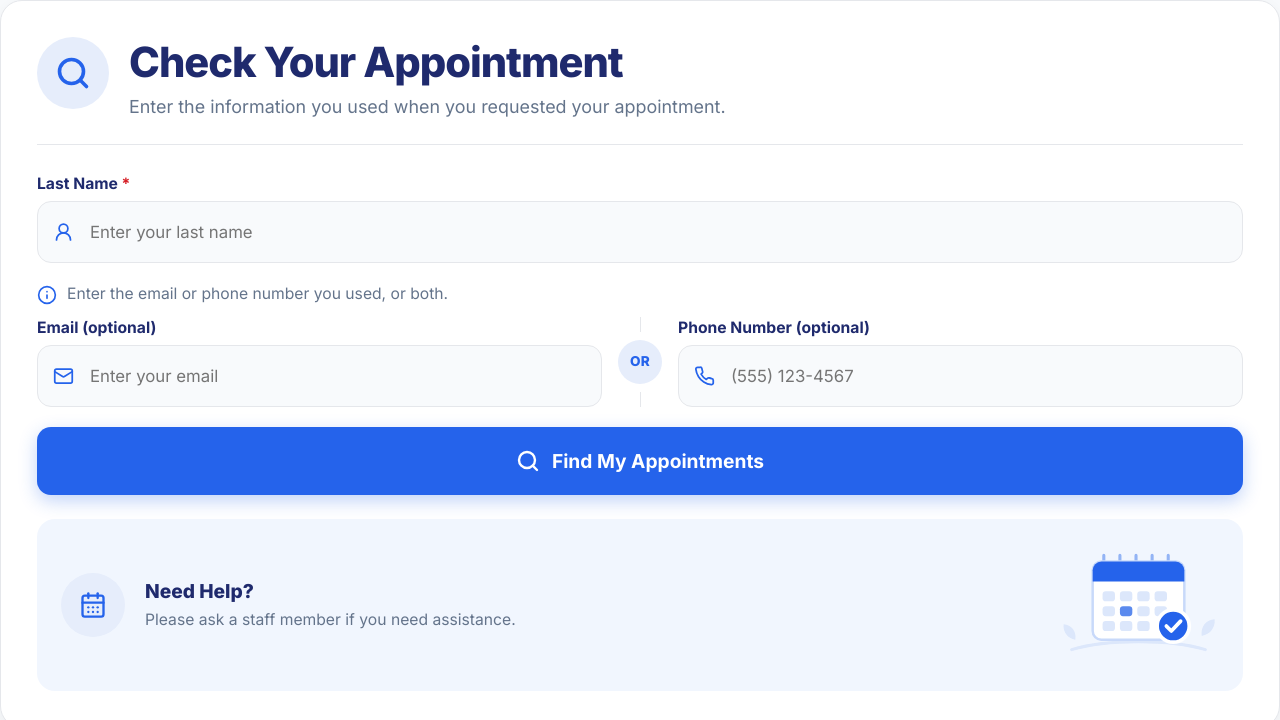
Test case: AppointmentLookup › still asks for a contact when only the last name is filled in
The image size is (1280, 720).
Type "Pierre" into the field labelled "Last Name *" at coordinates (640, 232), box [37,201,1243,263]
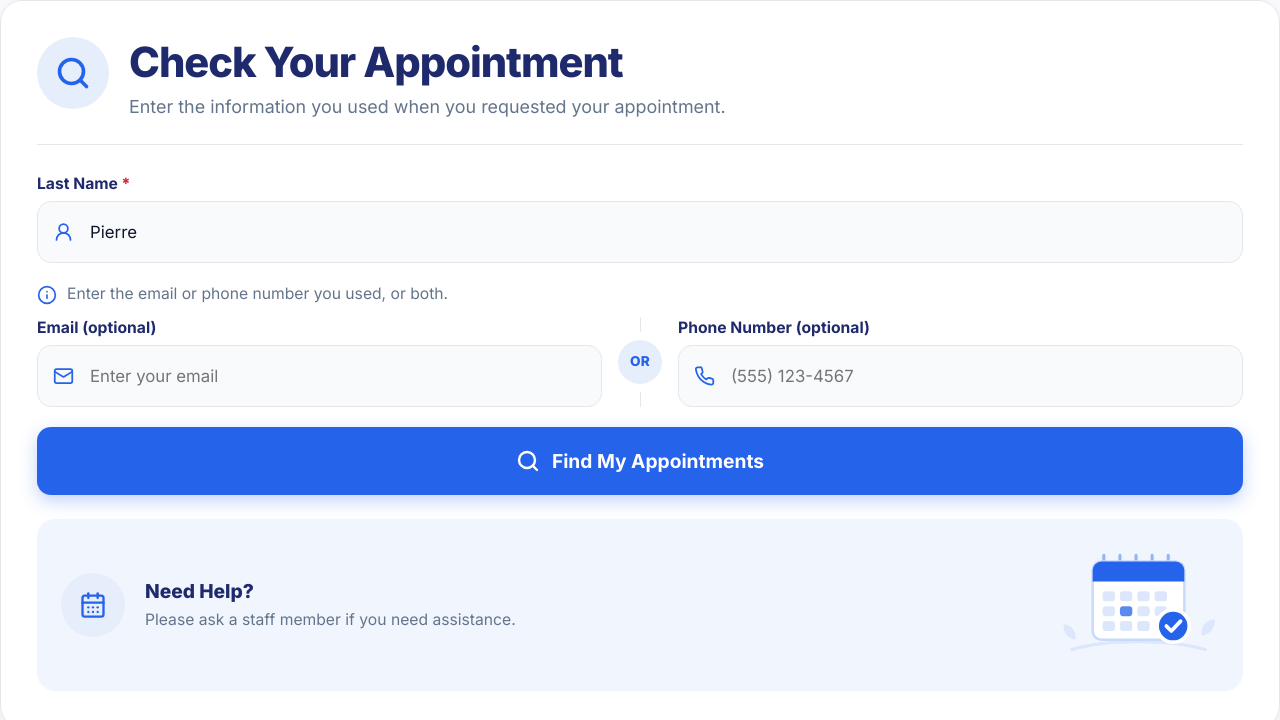
Click the button "Find My Appointments" at coordinates (640, 460), box [37,426,1243,494]
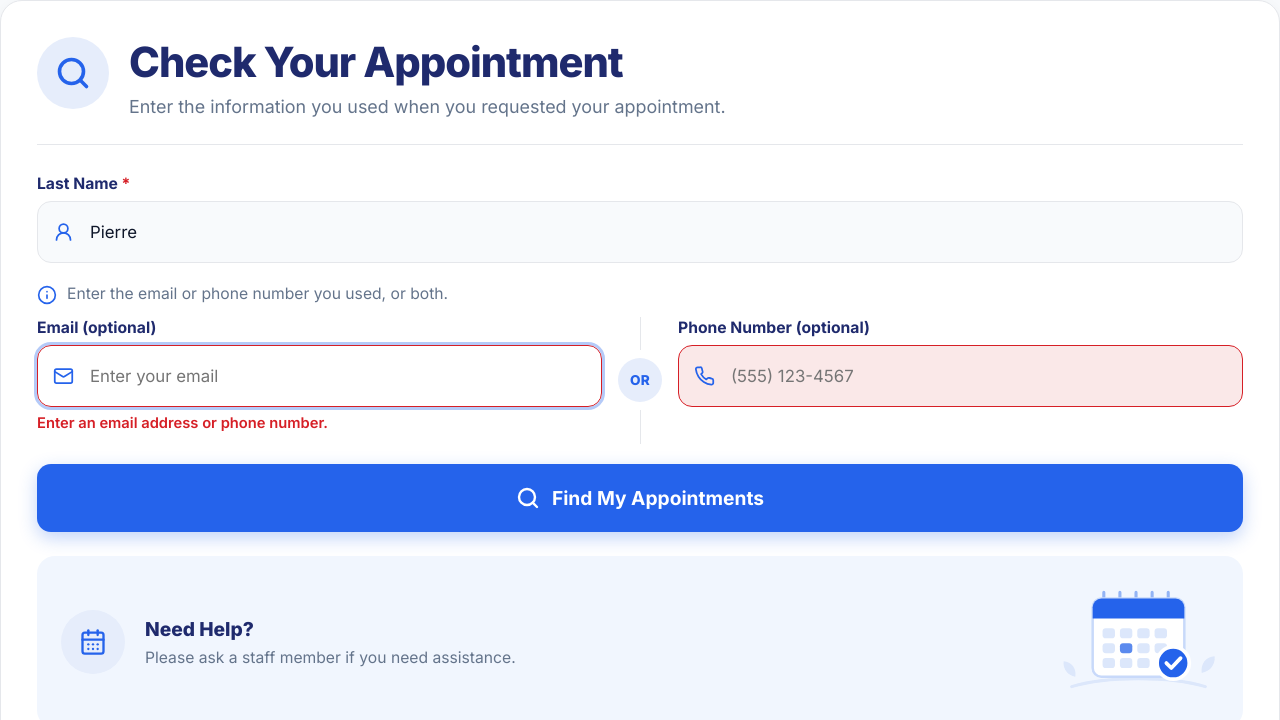
expect the text "Enter an email address or phone number." is shown: met, box [37,414,328,432]
